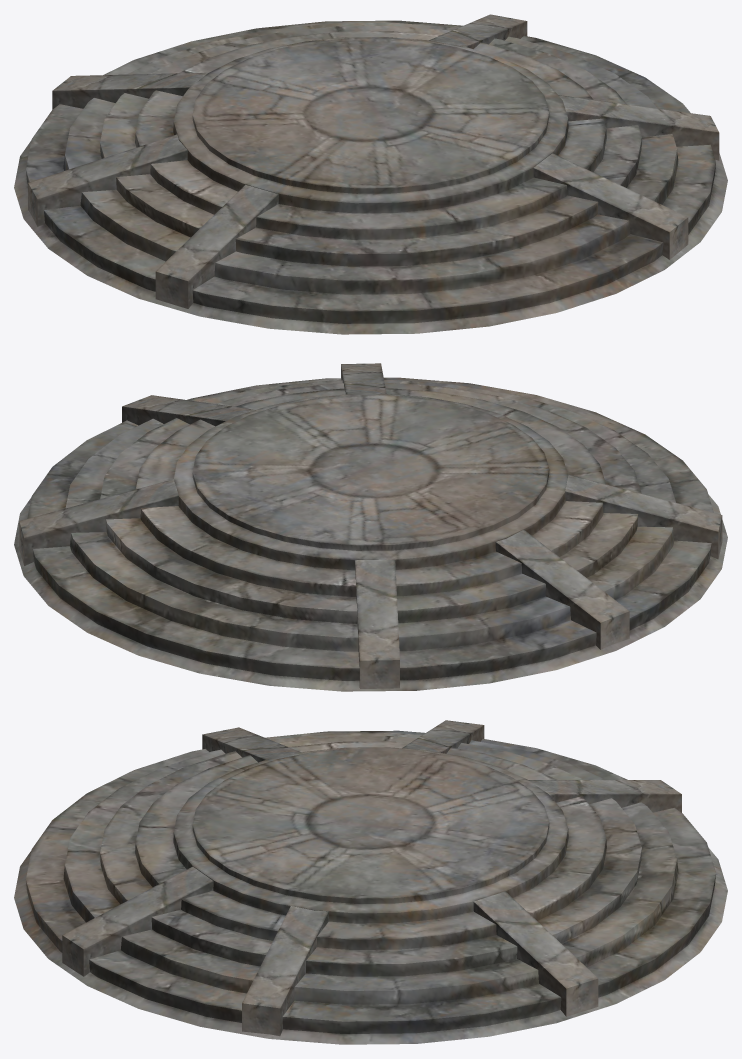
The model's file is Tower_A.fbx.
3 renders of one model, top to bottom at view 1: azimuth 30°, elevation 25°; view 2: azimuth 150°, elevation 25°; view 3: azimuth 270°, elevation 25°, orthographic.
Parts seen in each view (by area): view 1: Tower_A; view 2: Tower_A; view 3: Tower_A.
Part boxes in pixels (left/top/right/bottom): Tower_A: left=14, top=14, right=727, bottom=334; Tower_A: left=14, top=363, right=727, bottom=691; Tower_A: left=14, top=720, right=727, bottom=1044.
Size of the model in its own units: 2.4 by 0.2682 by 2.41.
Materials: 1 (1 with a texture image).
